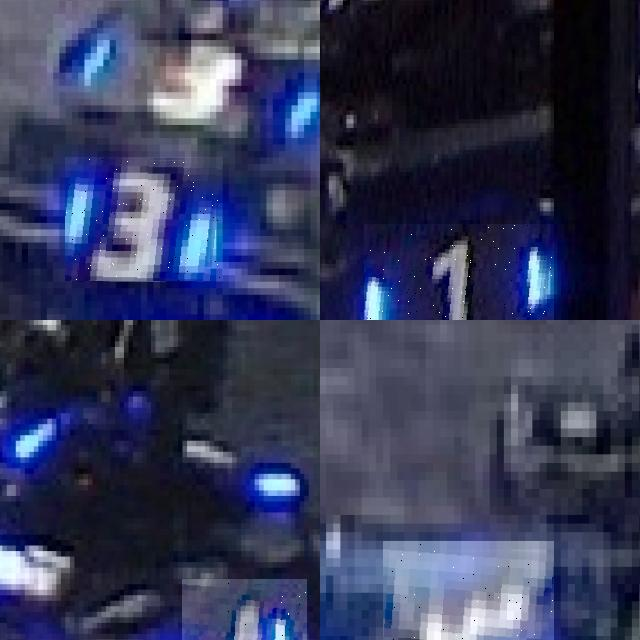B1: (364, 224, 554, 320)
B3: (65, 158, 223, 282), (383, 540, 553, 640)
B4: (182, 578, 308, 640)
